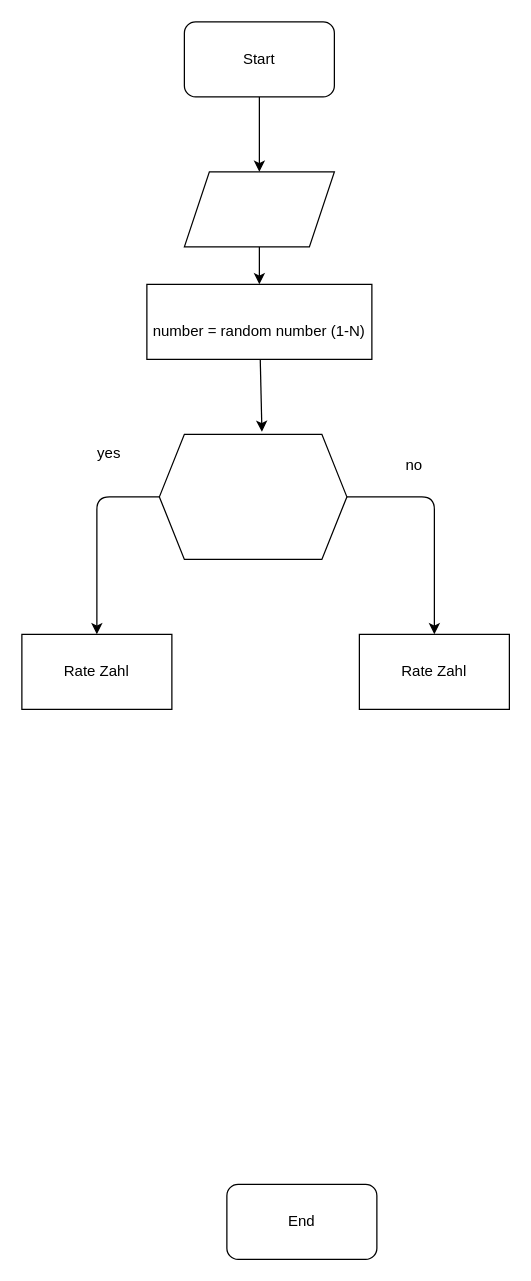
This 531x1281 diagram has some shape labels left out. Each missing label, with the box of its shape:
guess > number: (158, 433, 347, 559)
Input N Input number: (183, 171, 334, 247)
